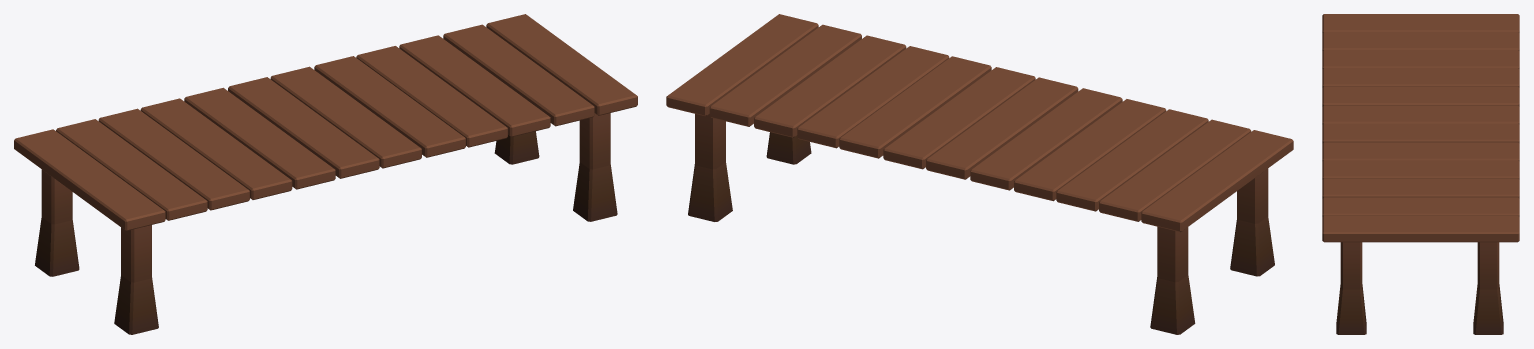
Rendered from Table.fbx.
3 views of the same model, side by side, from view 1: azimuth 30°, elevation 25°; view 2: azimuth 150°, elevation 25°; view 3: azimuth 270°, elevation 25° (orthographic). The views are drawn at different scales.
Visible parts, largest first — view 1: Cube.013; view 2: Cube.013; view 3: Cube.013.
Boxes of the visible parts, x1,y1,x2,y2 form: Cube.013: (14,14,637,334); Cube.013: (666,14,1293,334); Cube.013: (1322,14,1519,334).
Size of the model in its own units: 2.48 by 0.5654 by 0.9397.
